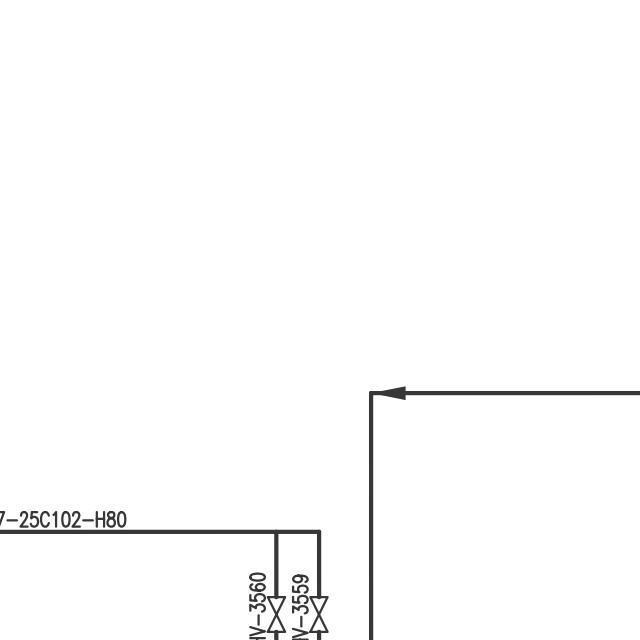GV: (303, 589, 331, 638), (262, 590, 288, 633)
